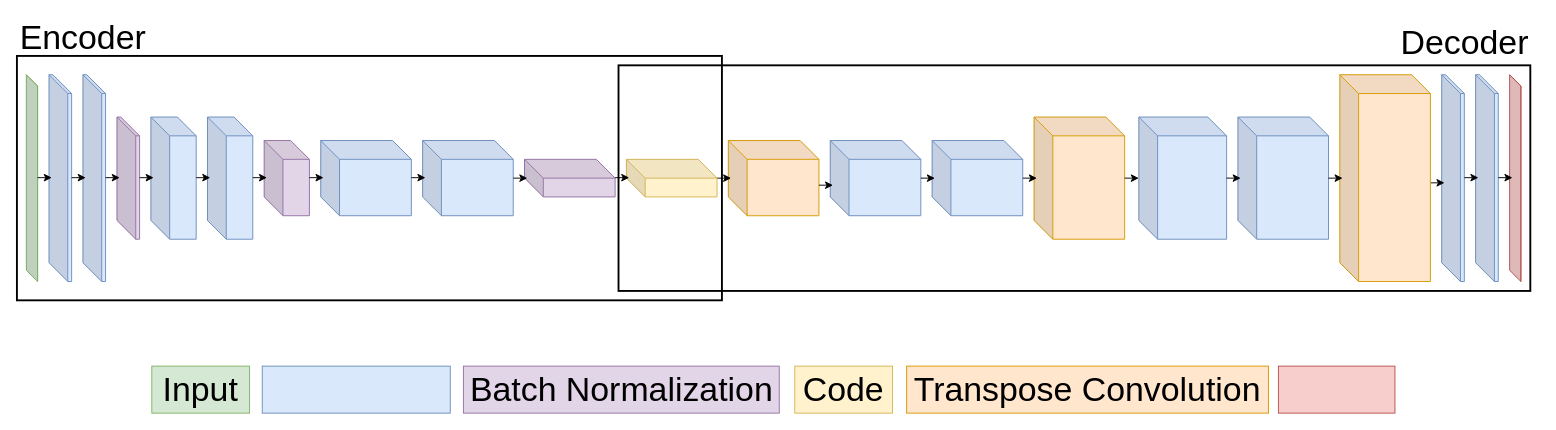
Some shapes in this 1556 by 430 pixel diagram are drawn without their labels. Here are the shapes that lost their labels. From the top down, the box of each, then its label:
(261, 365, 450, 413): Convolution
(1277, 365, 1395, 413): Output
